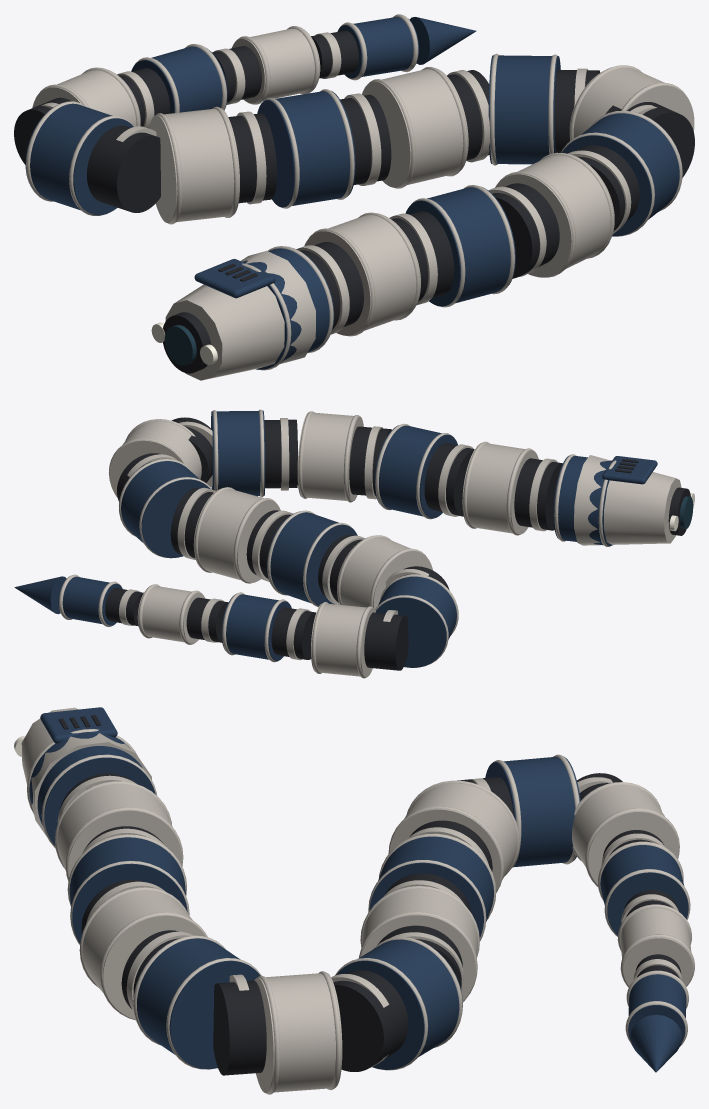
Rendered from robots-22.glb.
The picture shows the model from 3 angles, top to bottom: view 1: azimuth 30°, elevation 25°; view 2: azimuth 150°, elevation 25°; view 3: azimuth 270°, elevation 25°; orthographic projection. The views are drawn at different scales.
Visible parts, largest first — view 1: shields, joints, couplers, head, eye, crown, tail; view 2: shields, joints, couplers, head, crown, tail, eye; view 3: shields, joints, couplers, head, tail, crown.
Part boxes in pixels (x1,y1,x2,y2): shields: [25, 17, 694, 369]; joints: [14, 30, 694, 334]; couplers: [26, 14, 688, 370]; head: [165, 250, 315, 380]; eye: [163, 312, 211, 373]; crown: [194, 259, 275, 298]; tail: [409, 17, 476, 64]; shields: [58, 410, 615, 677]; joints: [105, 417, 562, 670]; couplers: [59, 409, 616, 678]; head: [574, 455, 681, 545]; crown: [602, 456, 657, 484]; tail: [14, 576, 66, 614]; eye: [668, 487, 693, 535]; shields: [29, 732, 692, 1092]; joints: [57, 773, 682, 1075]; couplers: [27, 729, 694, 1094]; head: [21, 707, 151, 837]; tail: [630, 1014, 682, 1072]; crown: [40, 707, 117, 743].
Bounding box in the file's own units: 2.93 × 0.4828 × 2.61.
